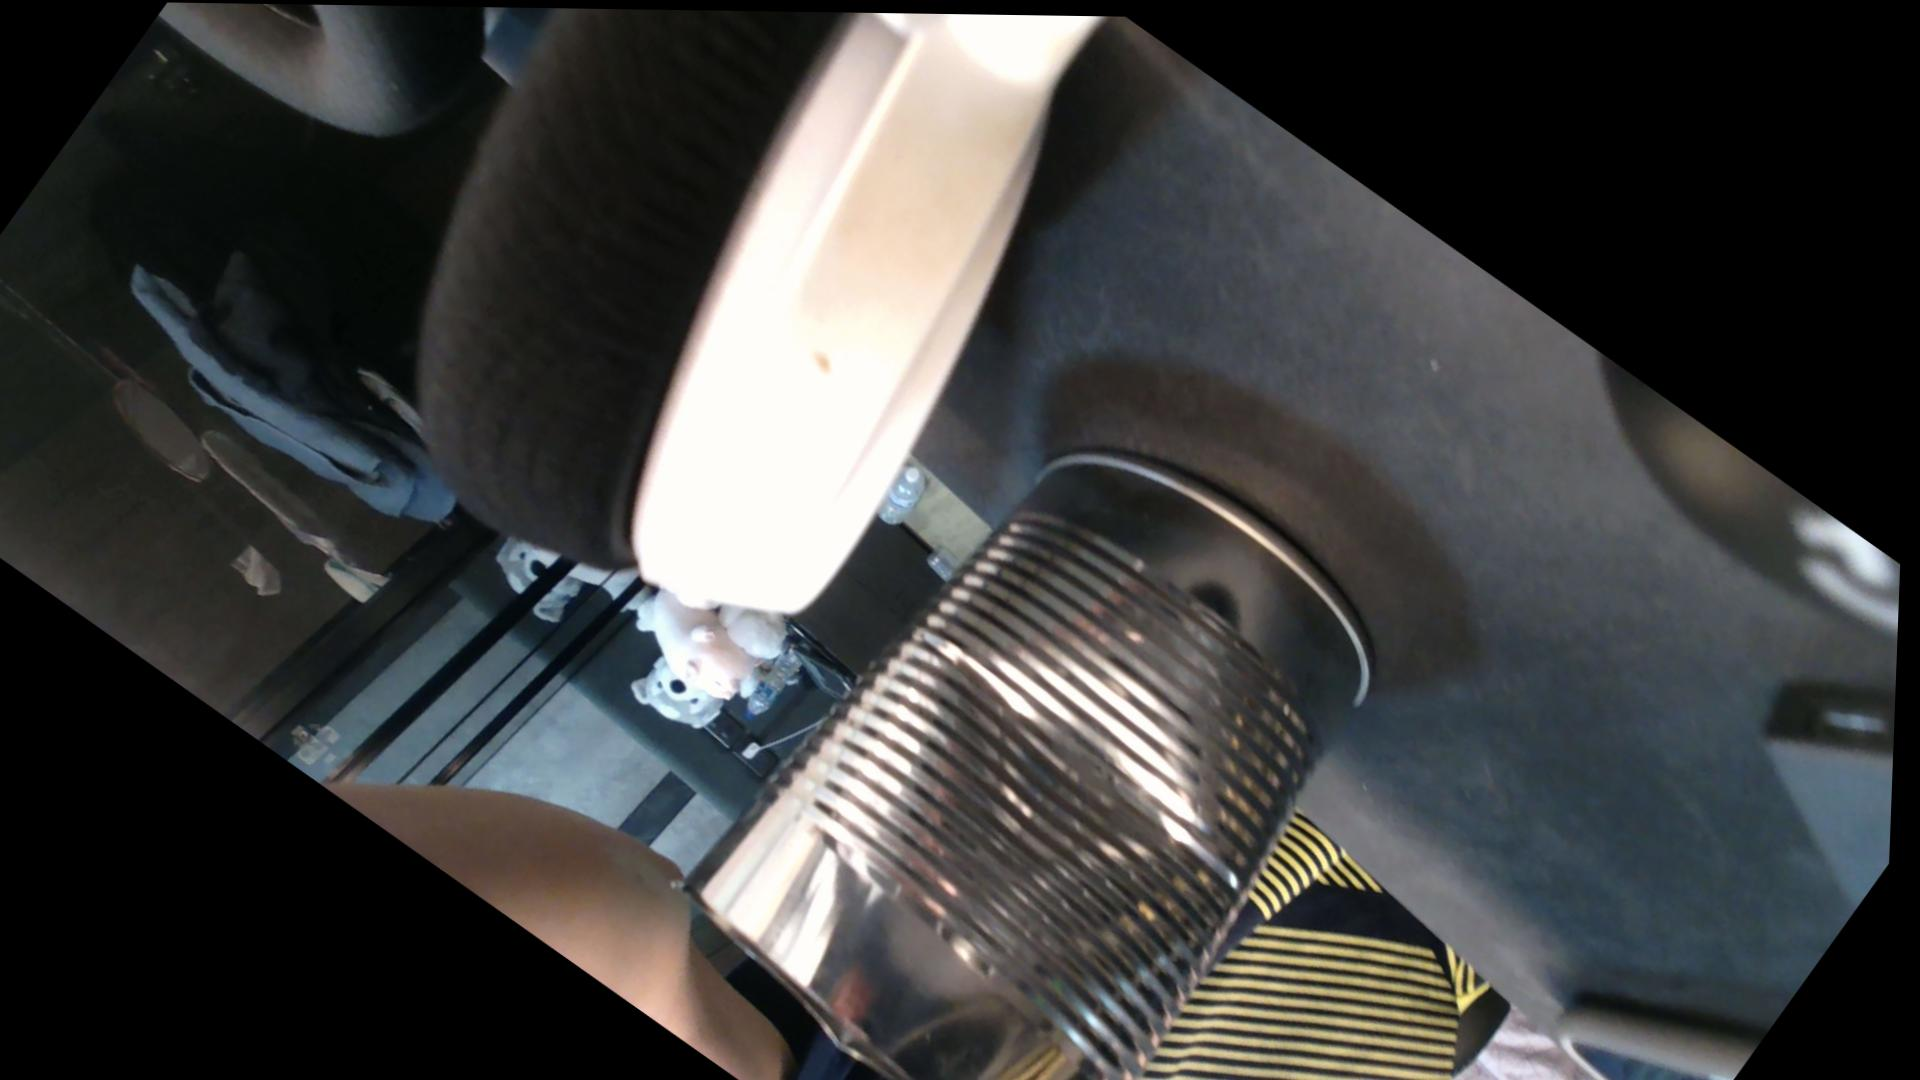metal: (649, 490, 1503, 1079), (1141, 813, 1549, 1079)
